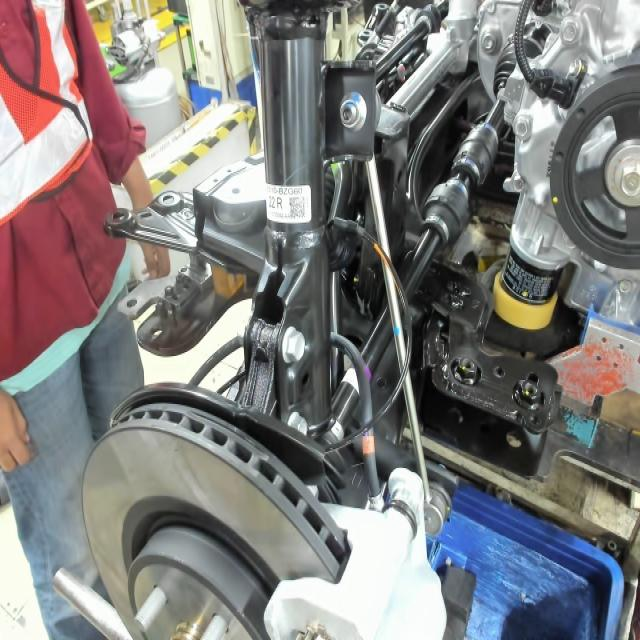Absorber RH-22: (264, 184, 308, 226)
Disc-HT: (118, 491, 287, 640)
Drive Shaft-UG: (341, 363, 374, 397)
